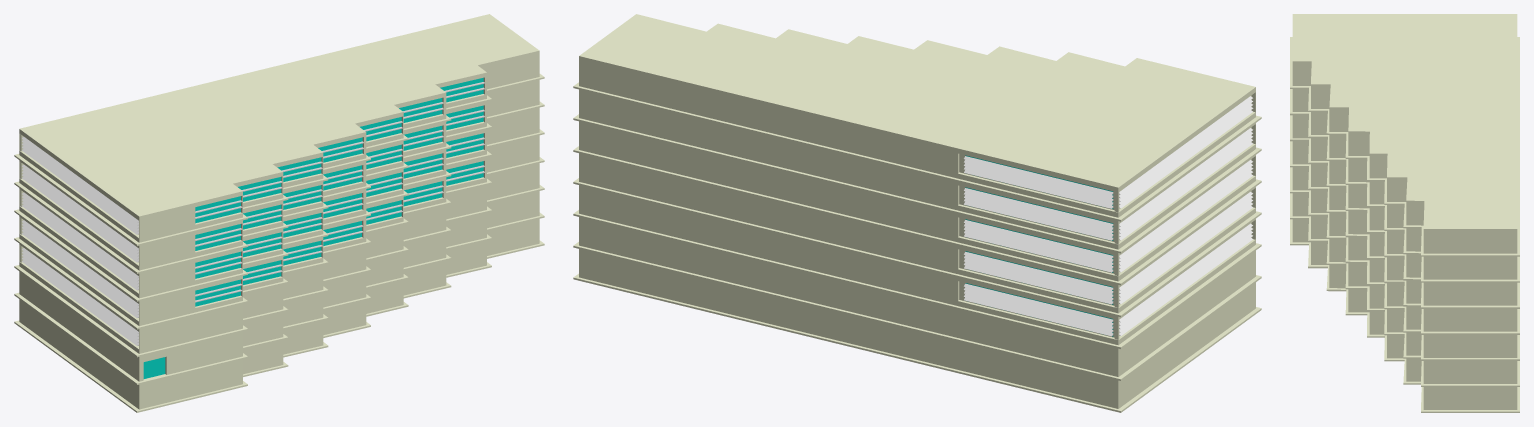
Rendered from LEES1 Building.fbx.
3 renders of one model, left to right at view 1: azimuth 30°, elevation 25°; view 2: azimuth 150°, elevation 25°; view 3: azimuth 270°, elevation 25°, orthographic. The views are drawn at different scales.
Parts seen in each view (by area): view 1: LEES1 Building; view 2: LEES1 Building; view 3: LEES1 Building.
Boxes of the visible parts, x1,y1,x2,y2 form: LEES1 Building: (14,14,544,412); LEES1 Building: (573,14,1261,412); LEES1 Building: (1290,14,1519,412).
Bounding box in the file's own units: 6599 × 2569 × 2937.
